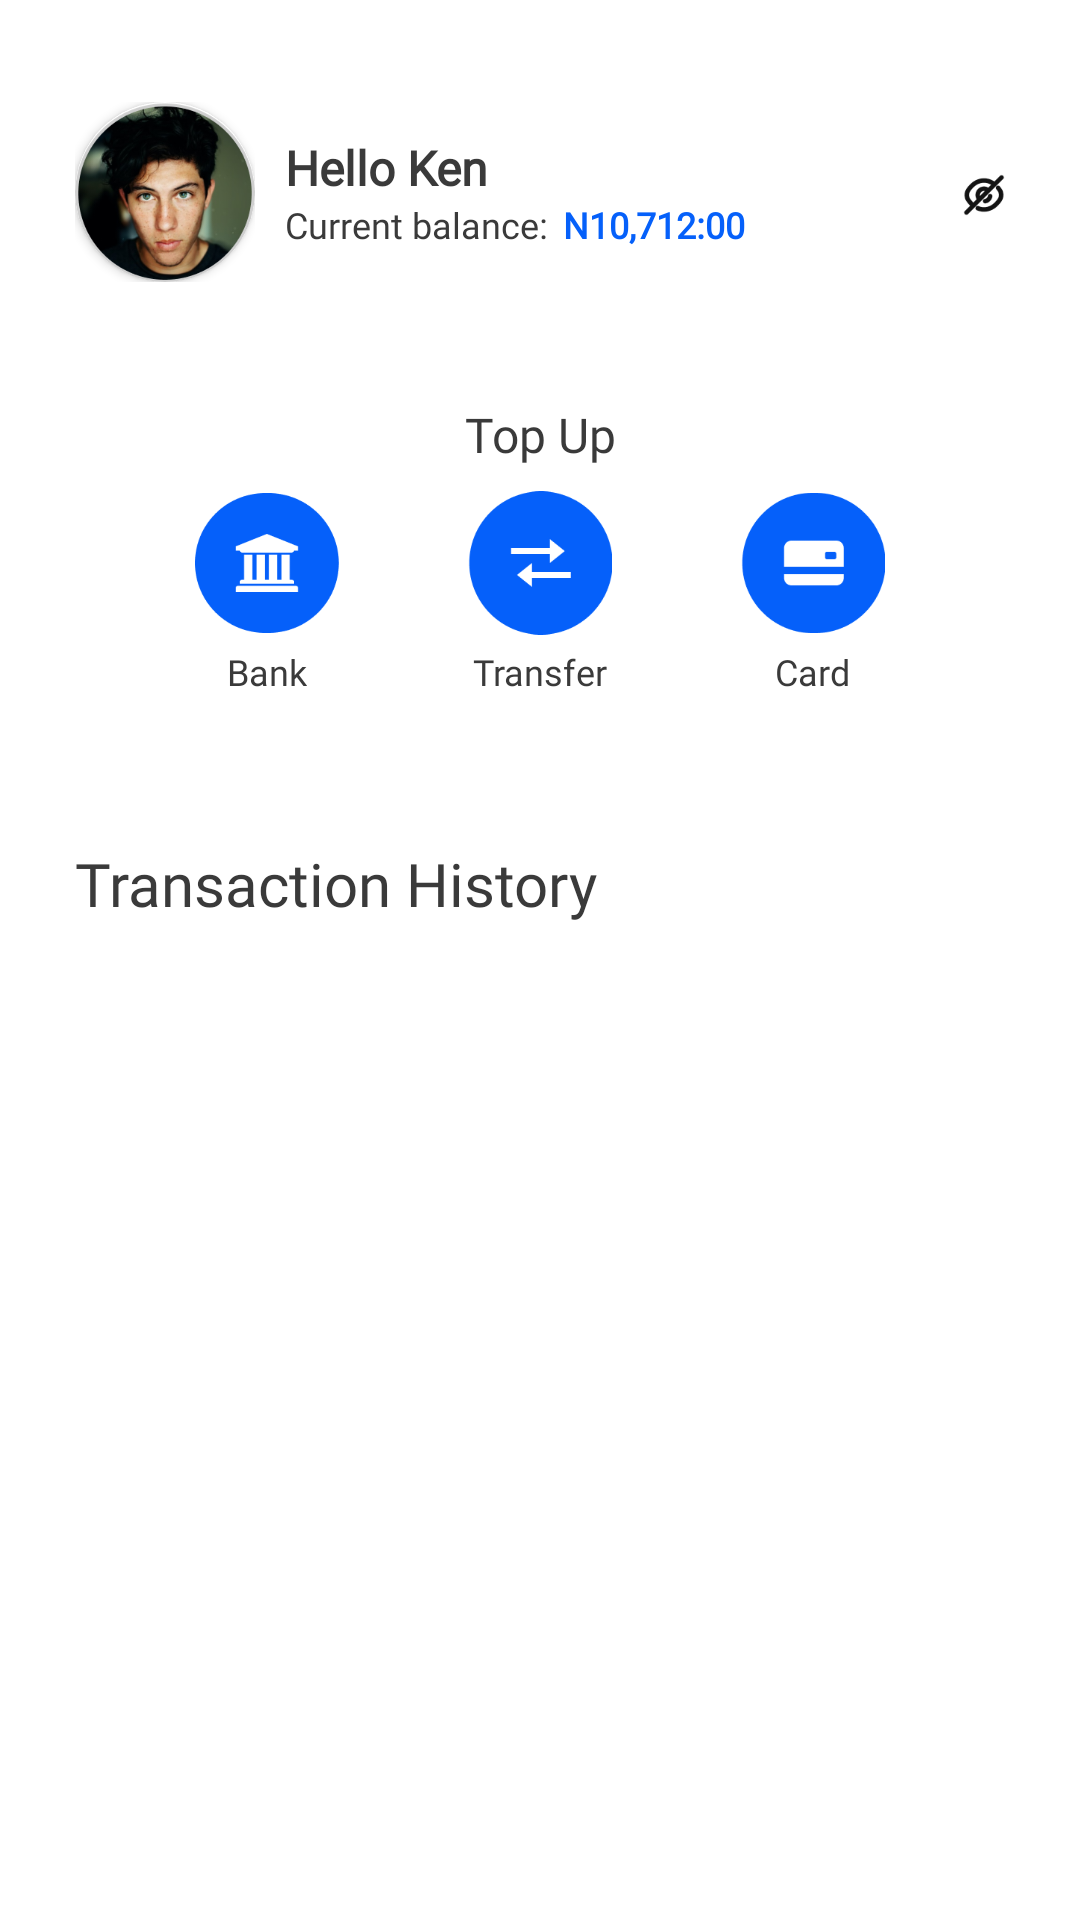

Icon bounding boxes for this 1080*1920 phone screenshot, format (x1, y1, x2, y2):
eye slash: (964, 175, 1004, 215)
